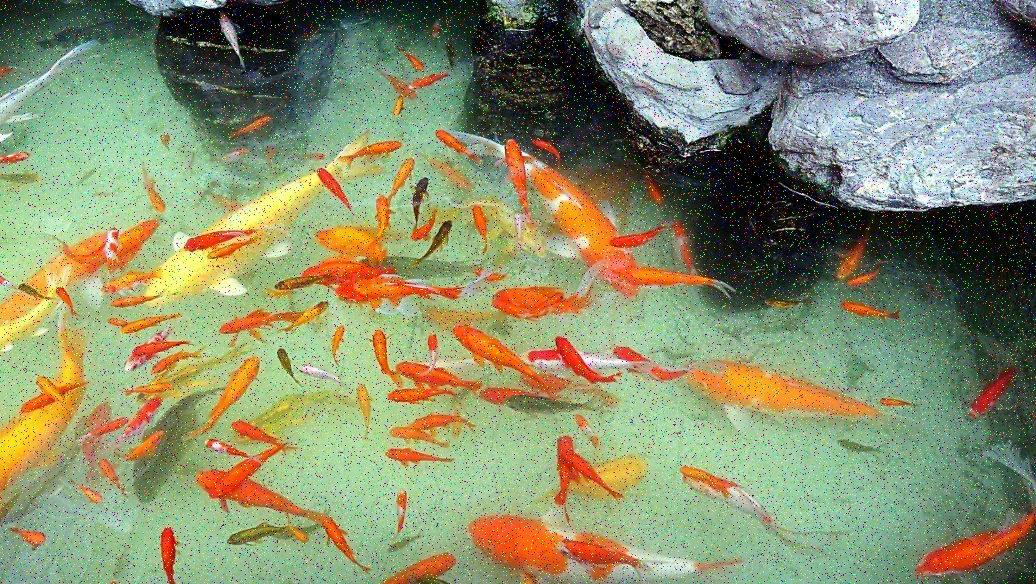fry: (146, 193, 309, 312), (684, 344, 864, 431), (540, 170, 649, 298), (675, 455, 819, 546), (1, 327, 86, 481), (910, 504, 1031, 577), (190, 463, 319, 527), (470, 505, 565, 577), (573, 139, 654, 217), (132, 414, 195, 510), (555, 523, 655, 576), (39, 8, 161, 50), (24, 232, 105, 294), (456, 323, 540, 382), (607, 257, 727, 296), (493, 278, 596, 323), (583, 442, 657, 502), (959, 349, 1017, 424), (517, 344, 627, 382), (332, 277, 454, 311), (207, 357, 267, 423), (313, 498, 362, 574), (612, 337, 686, 387), (382, 248, 486, 282), (308, 218, 387, 262), (485, 196, 542, 256), (1, 70, 52, 131), (69, 395, 114, 464), (361, 321, 405, 391), (499, 138, 536, 218), (298, 255, 390, 287), (606, 217, 670, 261), (558, 339, 609, 394), (311, 221, 376, 263), (214, 456, 277, 499), (307, 161, 360, 211), (563, 448, 619, 495), (839, 288, 907, 326), (213, 308, 280, 346), (224, 514, 284, 556), (667, 211, 704, 278), (394, 361, 473, 392), (211, 10, 255, 65), (123, 395, 179, 438), (2, 304, 51, 353), (434, 120, 481, 164), (554, 433, 583, 504), (513, 391, 595, 416), (344, 130, 406, 163), (833, 430, 895, 463), (118, 216, 163, 261), (150, 523, 186, 579), (419, 302, 498, 327), (377, 379, 455, 404), (385, 442, 452, 471), (123, 426, 173, 464), (198, 427, 247, 465), (227, 416, 285, 448), (415, 408, 479, 437), (226, 104, 279, 139), (135, 165, 172, 215), (395, 551, 463, 578), (829, 229, 868, 275), (299, 385, 358, 415), (104, 266, 167, 294), (321, 321, 360, 366), (180, 223, 247, 248), (119, 336, 163, 374), (405, 170, 433, 226), (378, 526, 416, 566), (67, 478, 113, 511), (115, 316, 181, 339), (288, 298, 334, 331), (257, 391, 304, 423), (371, 189, 398, 244), (533, 126, 570, 166), (469, 198, 501, 244), (422, 214, 457, 255), (762, 287, 815, 314), (13, 519, 56, 552), (636, 175, 676, 210), (389, 424, 445, 449), (477, 381, 530, 407), (51, 282, 83, 325), (271, 342, 300, 389), (297, 358, 344, 387), (436, 160, 477, 193), (352, 382, 377, 436), (97, 452, 129, 494), (377, 66, 415, 101), (149, 351, 202, 376), (97, 225, 124, 274), (389, 481, 417, 528), (186, 175, 223, 210), (421, 321, 443, 379), (269, 269, 318, 295), (382, 89, 412, 131), (573, 410, 609, 445), (385, 149, 418, 187), (82, 416, 130, 441), (206, 242, 263, 263), (81, 412, 125, 439), (104, 292, 170, 310), (121, 380, 180, 399), (7, 164, 47, 191), (15, 390, 56, 416), (851, 264, 889, 292), (217, 145, 259, 170), (213, 186, 251, 213), (32, 368, 64, 400), (1, 140, 34, 171), (1, 58, 36, 86), (399, 44, 427, 79), (404, 218, 432, 252), (408, 70, 445, 95), (134, 340, 199, 354), (880, 390, 923, 411), (293, 142, 330, 166), (287, 519, 313, 550), (17, 278, 47, 304), (422, 16, 449, 44), (86, 183, 121, 204), (442, 39, 462, 73), (70, 162, 97, 187), (157, 128, 181, 151), (102, 310, 124, 330)
